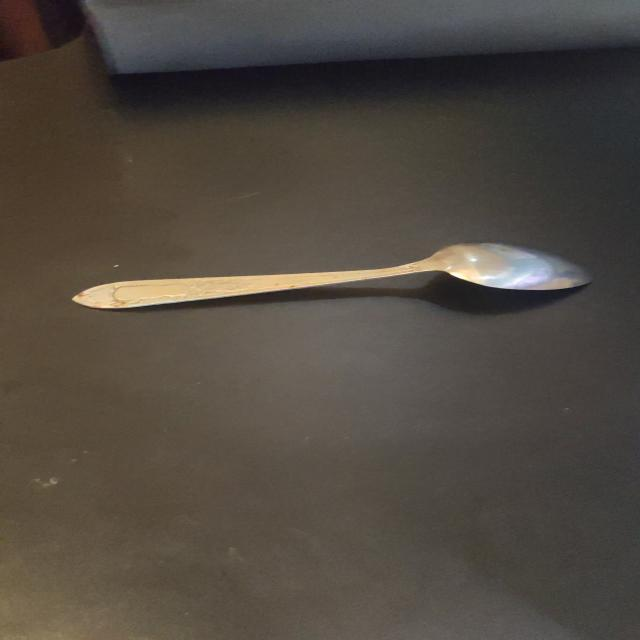plastic utensil: (73, 244, 591, 309)
